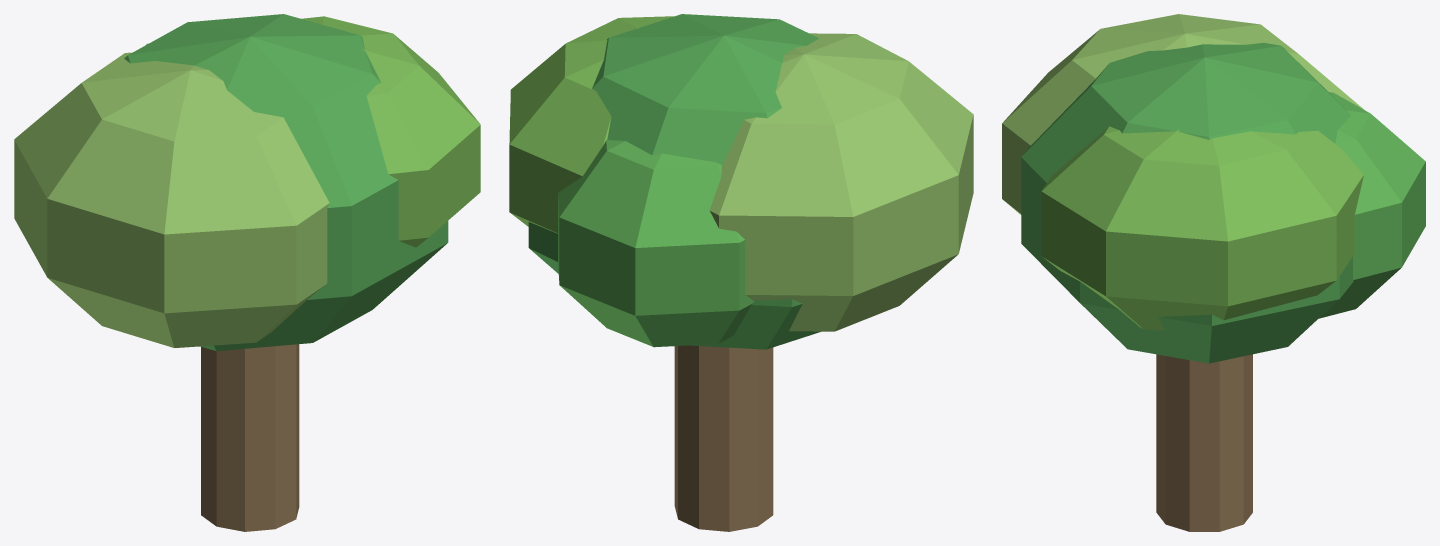
File: tree2.glb
3 views of the same model, side by side, from view 1: azimuth 30°, elevation 25°; view 2: azimuth 150°, elevation 25°; view 3: azimuth 270°, elevation 25° (orthographic). The views are drawn at different scales.
Parts seen in each view (by area): view 1: Sphere.002, Sphere, OakTrunk, Sphere.001; view 2: Sphere.002, Sphere.003, Sphere, OakTrunk, Sphere.001; view 3: Sphere.001, Sphere, OakTrunk, Sphere.002, Sphere.003.
Part boxes in pixels (x1,y1,x2,y2): Sphere.002: (14,52,329,347); Sphere: (124,14,448,351); OakTrunk: (201,344,299,531); Sphere.001: (301,16,480,247); Sphere.002: (709,33,973,331); Sphere.003: (558,140,753,347); Sphere: (528,14,820,349); OakTrunk: (674,345,773,531); Sphere.001: (509,16,673,233); Sphere.001: (1041,126,1363,330); Sphere: (1021,42,1353,363); OakTrunk: (1156,354,1252,531); Sphere.002: (1002,14,1364,214); Sphere.003: (1318,92,1425,318).
Bounding box in the file's own units: 2.41 × 2.6 × 2.19.
